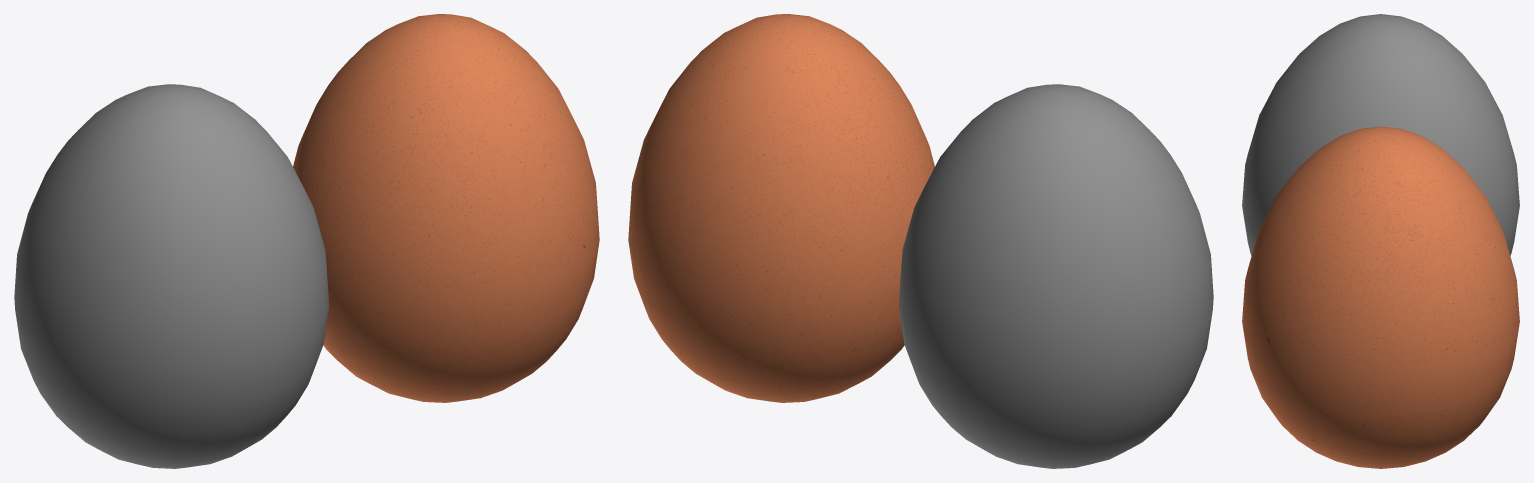
File: egg.obj
3 views of the same model, side by side, from view 1: azimuth 30°, elevation 25°; view 2: azimuth 150°, elevation 25°; view 3: azimuth 270°, elevation 25° (orthographic). The views are drawn at different scales.
Parts seen in each view (by area): view 1: egg_1_egg_1.001, egg_2_egg_2.001; view 2: egg_1_egg_1.001, egg_2_egg_2.001; view 3: egg_2_egg_2.001, egg_1_egg_1.001.
Boxes of the visible parts, x1,y1,x2,y2 form: egg_1_egg_1.001: (14,84,329,468); egg_2_egg_2.001: (293,14,599,402); egg_1_egg_1.001: (898,84,1213,468); egg_2_egg_2.001: (628,14,934,402); egg_2_egg_2.001: (1242,126,1519,468); egg_1_egg_1.001: (1242,14,1519,255).
Bounding box in the file's own units: 4.5 × 2.9 × 2.26.
